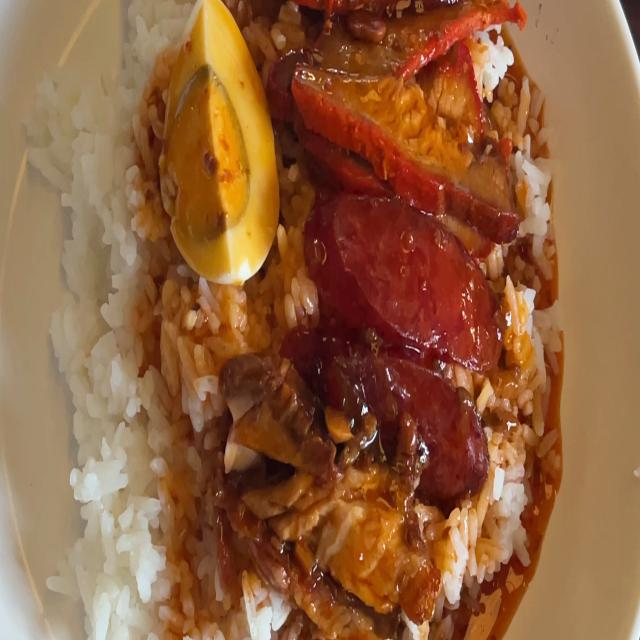01boiled_egg: (174, 5, 265, 275)
01chainese_sausage: (304, 187, 488, 475)
01crispy_pork: (250, 468, 433, 640), (228, 364, 318, 481)
01red_pork: (286, 0, 534, 224)
01red_pork_and_crispy_pork: (62, 0, 557, 640)
01rice: (52, 0, 164, 640), (157, 293, 218, 640)
